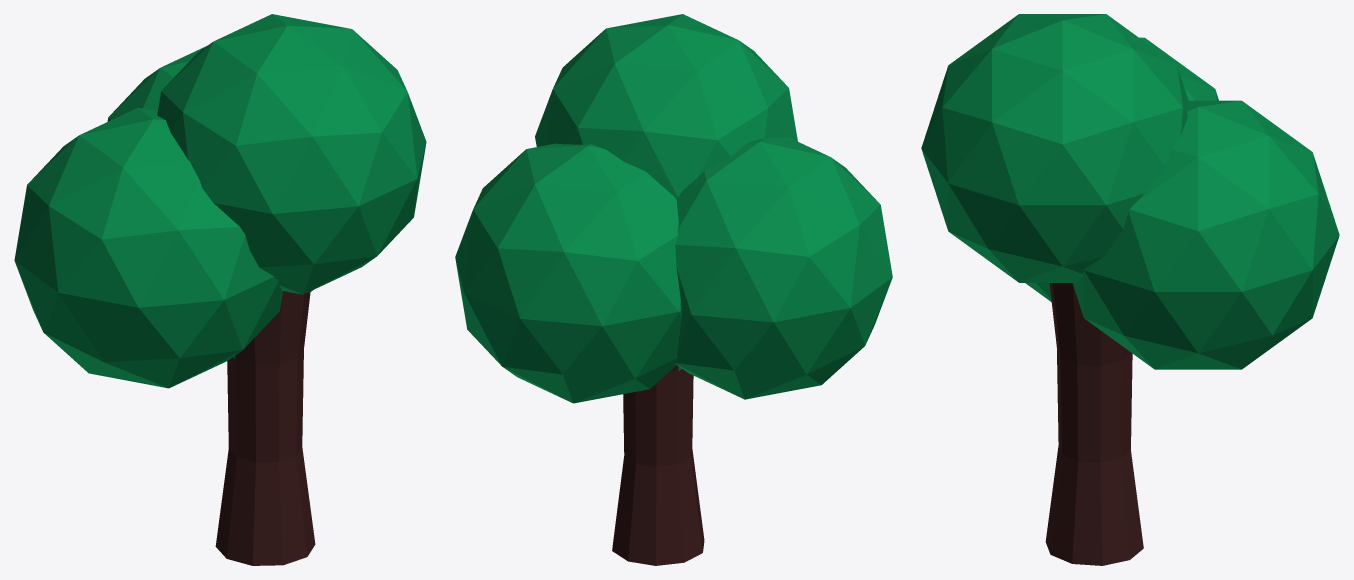
File: arbre.obj
The picture shows the model from 3 angles, left to right: view 1: azimuth 30°, elevation 25°; view 2: azimuth 150°, elevation 25°; view 3: azimuth 270°, elevation 25°; orthographic projection. The views are drawn at different scales.
Bounding box in the file's own units: 2.96 × 4.12 × 2.96.
